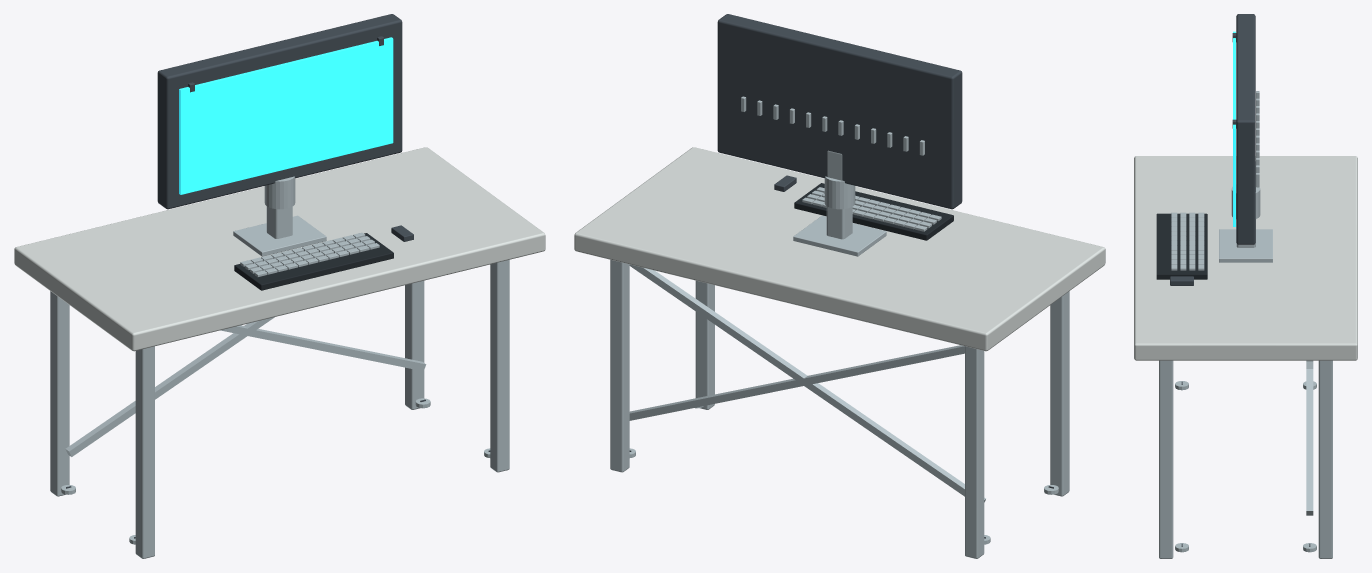
Rendered from data-centre-infiltration-kit-data-centre-infiltration--9a77ccdc__29252.glb.
The picture shows the model from 3 angles, left to right: view 1: azimuth 30°, elevation 25°; view 2: azimuth 150°, elevation 25°; view 3: azimuth 270°, elevation 25°; orthographic projection. The views are drawn at different scales.
Visible parts, largest first — view 1: data-centre-infiltration-kit-diagnostic-console; view 2: data-centre-infiltration-kit-diagnostic-console; view 3: data-centre-infiltration-kit-diagnostic-console.
Boxes of the visible parts, x1=… form: data-centre-infiltration-kit-diagnostic-console: x1=14, y1=14, x2=545, y2=558; data-centre-infiltration-kit-diagnostic-console: x1=574, y1=14, x2=1105, y2=558; data-centre-infiltration-kit-diagnostic-console: x1=1134, y1=14, x2=1357, y2=558.
Size of the model in its own units: 1.4 by 1.41 by 0.7001.
